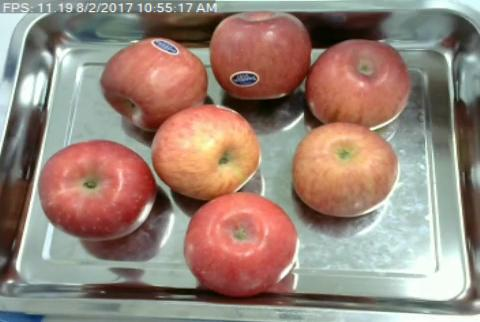apple: (38, 140, 155, 241), (184, 194, 296, 295), (151, 102, 260, 198), (100, 36, 208, 131), (291, 123, 398, 216), (306, 39, 411, 130), (211, 11, 311, 99)
